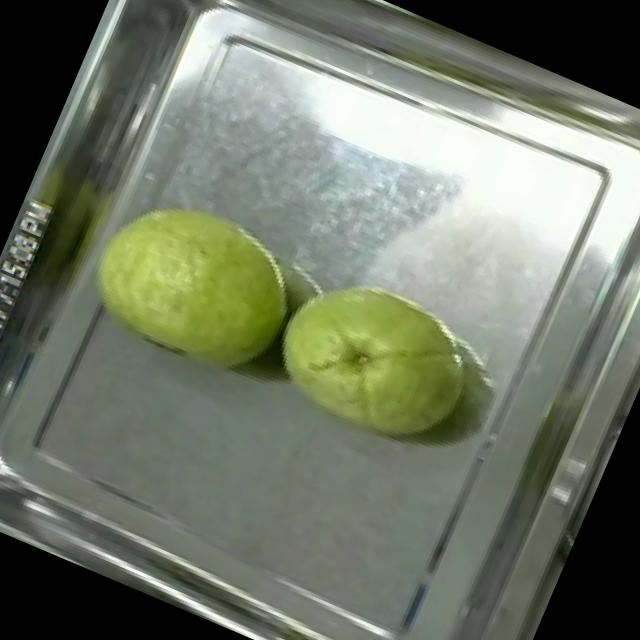Fruit: (60, 165, 322, 402), (243, 242, 497, 475)
